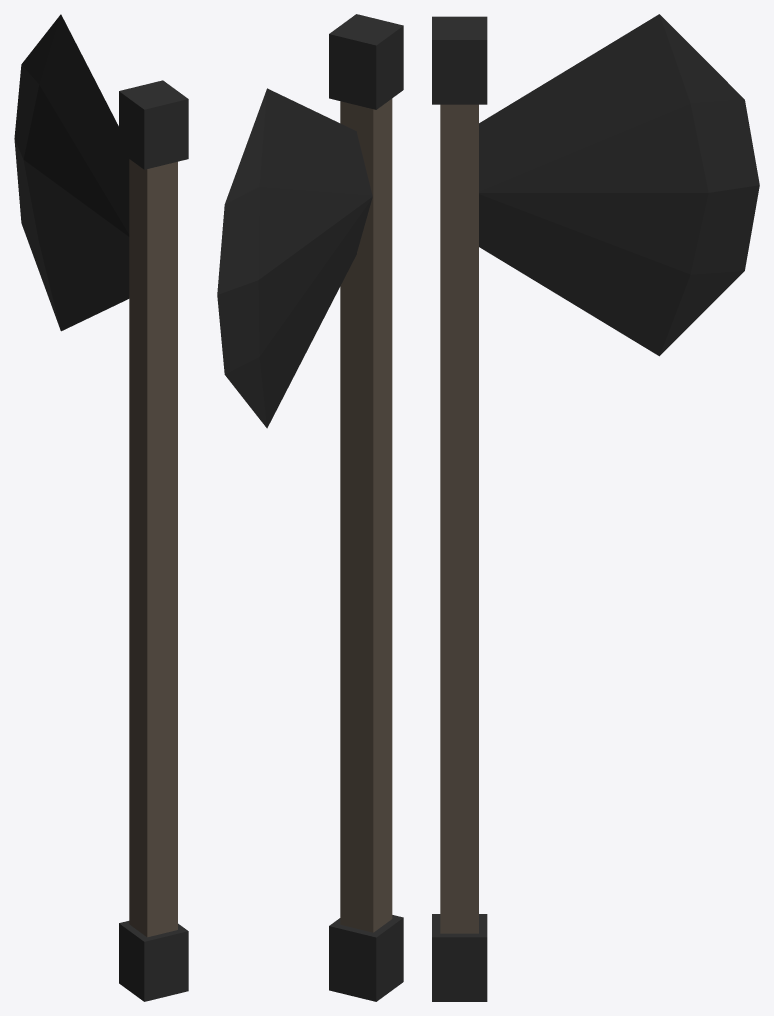
File: Axe_04.fbx
3 renders of one model, left to right at view 1: azimuth 30°, elevation 25°; view 2: azimuth 150°, elevation 25°; view 3: azimuth 270°, elevation 25°, orthographic. The views are drawn at different scales.
Visible parts, largest first — view 1: Axe_04; view 2: Axe_04; view 3: Axe_04.
Part boxes in pixels (x1,y1,x2,y2): Axe_04: [14, 14, 188, 1001]; Axe_04: [217, 14, 403, 1001]; Axe_04: [432, 14, 759, 1001].
Size of the model in its own units: 1.02 by 20 by 6.08.
